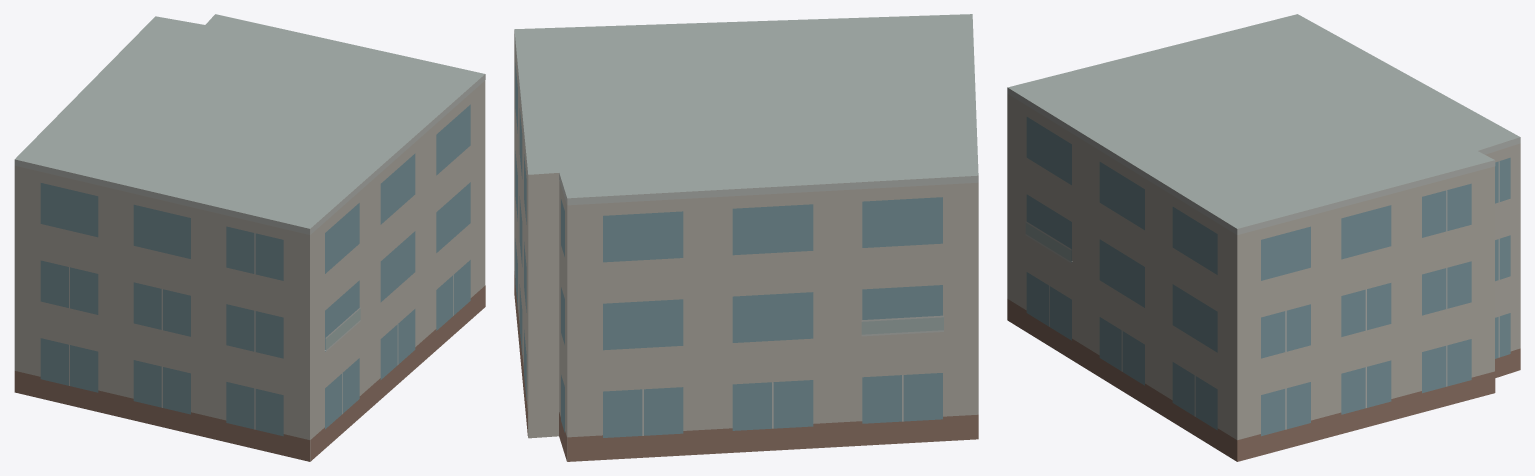
Rendered from survey-upis-32939762.glb.
The picture shows the model from 3 angles, left to right: view 1: azimuth 30°, elevation 25°; view 2: azimuth 150°, elevation 25°; view 3: azimuth 270°, elevation 25°; orthographic projection. The views are drawn at different scales.
Parts seen in each view (by area): view 1: survey-upis-32939762.tmp; view 2: survey-upis-32939762.tmp; view 3: survey-upis-32939762.tmp.
Boxes of the visible parts, bbox=[...] form: survey-upis-32939762.tmp: bbox=[14, 14, 485, 461]; survey-upis-32939762.tmp: bbox=[514, 14, 978, 461]; survey-upis-32939762.tmp: bbox=[1007, 14, 1520, 461].
Size of the model in its own units: 18.12 by 9.15 by 18.27.
